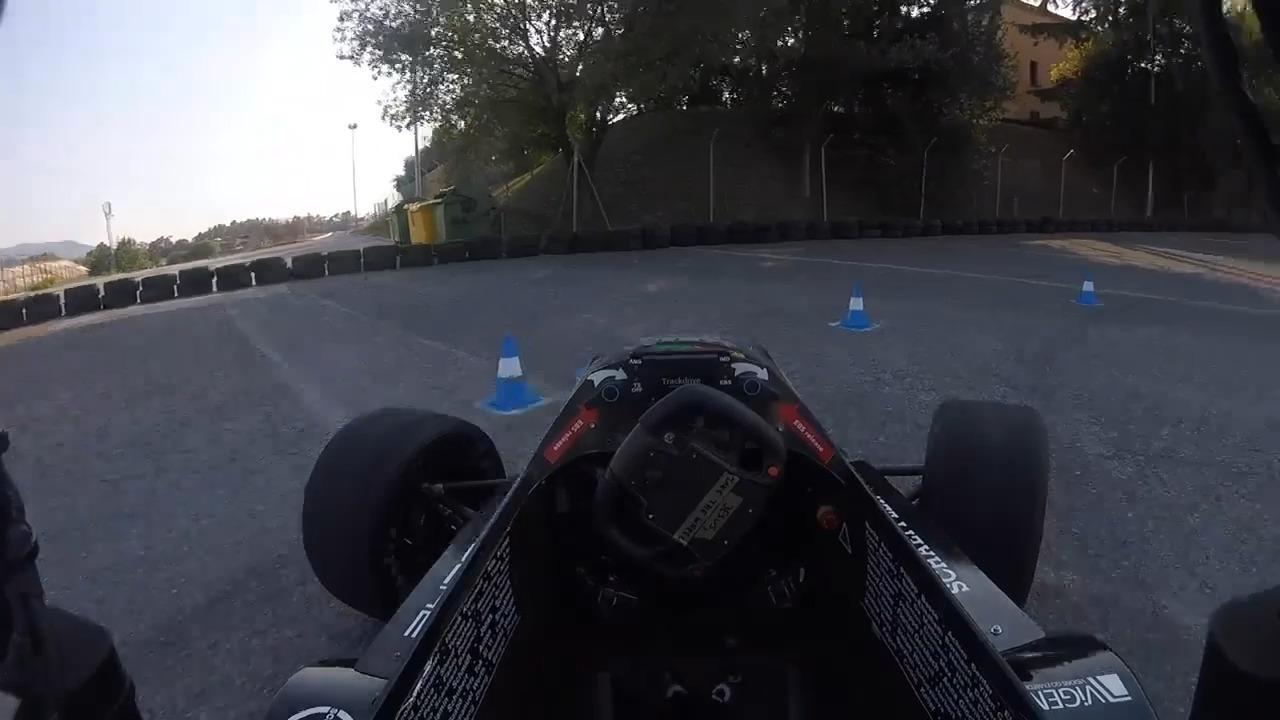blue_cone: (465, 330, 550, 421), (829, 275, 886, 341), (1069, 269, 1106, 310)
